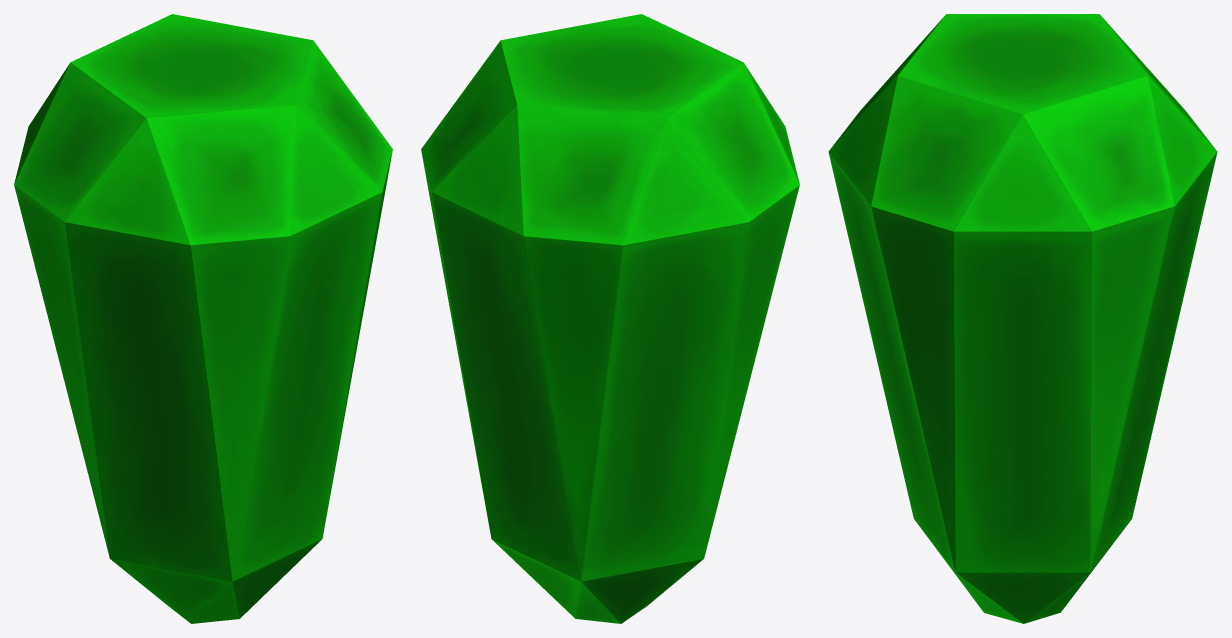
File: GemPent.fbx
3 renders of one model, left to right at view 1: azimuth 30°, elevation 25°; view 2: azimuth 150°, elevation 25°; view 3: azimuth 270°, elevation 25°, orthographic.
Parts seen in each view (by area): view 1: GemPent; view 2: GemPent; view 3: GemPent.
Boxes of the visible parts, x1=… form: GemPent: x1=14, y1=14, x2=392, y2=623; GemPent: x1=421, y1=14, x2=799, y2=623; GemPent: x1=828, y1=14, x2=1217, y2=623.
Bounding box in the file's own units: 86.03 × 140 × 90.46.
1 material, 1 textured.
